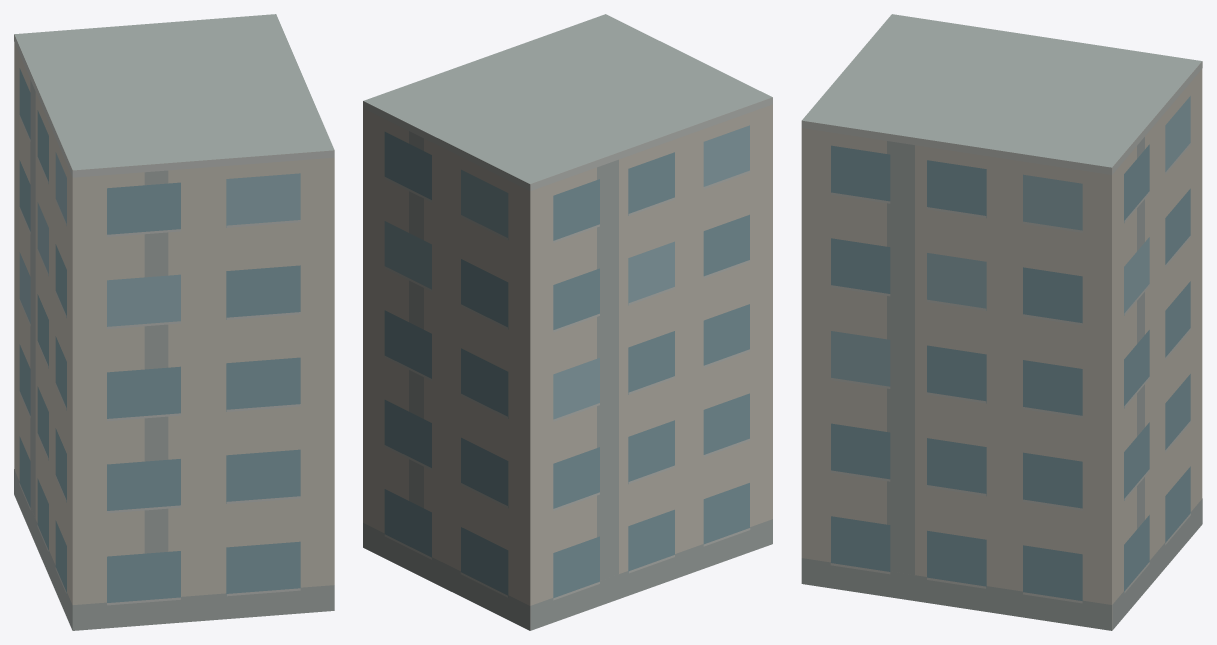
The model's file is residential-17d1a568-579f-4c9e-9153-6632ca43e7dc.glb.
3 renders of one model, left to right at view 1: azimuth 30°, elevation 25°; view 2: azimuth 150°, elevation 25°; view 3: azimuth 270°, elevation 25°, orthographic. The views are drawn at different scales.
Parts seen in each view (by area): view 1: residential-17d1a568-579f-4c9e-9153-6632ca43e7dc.tmp; view 2: residential-17d1a568-579f-4c9e-9153-6632ca43e7dc.tmp; view 3: residential-17d1a568-579f-4c9e-9153-6632ca43e7dc.tmp.
Boxes of the visible parts, left/top/right/bottom form: residential-17d1a568-579f-4c9e-9153-6632ca43e7dc.tmp: left=14, top=14, right=334, bottom=630; residential-17d1a568-579f-4c9e-9153-6632ca43e7dc.tmp: left=363, top=14, right=772, bottom=630; residential-17d1a568-579f-4c9e-9153-6632ca43e7dc.tmp: left=801, top=14, right=1202, bottom=630.
Size of the model in its own units: 10.86 by 15.25 by 11.97.
